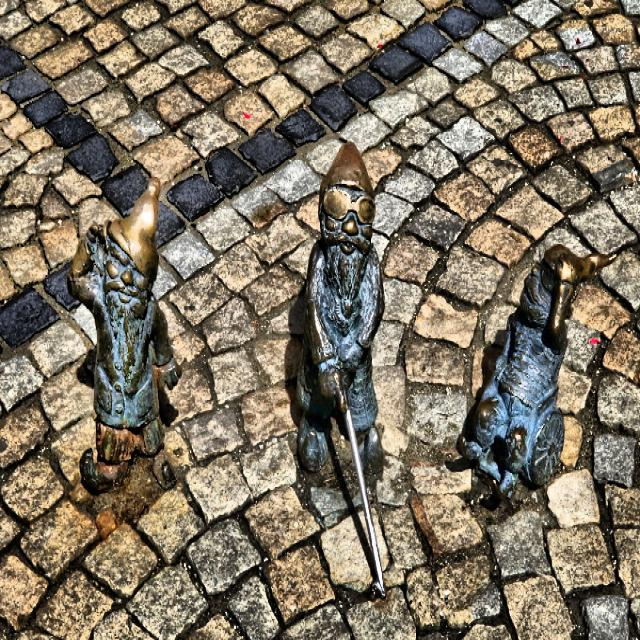Gluchak: (69, 179, 181, 491)
Slepak: (298, 142, 385, 596)
W-Skers: (459, 246, 614, 494)
